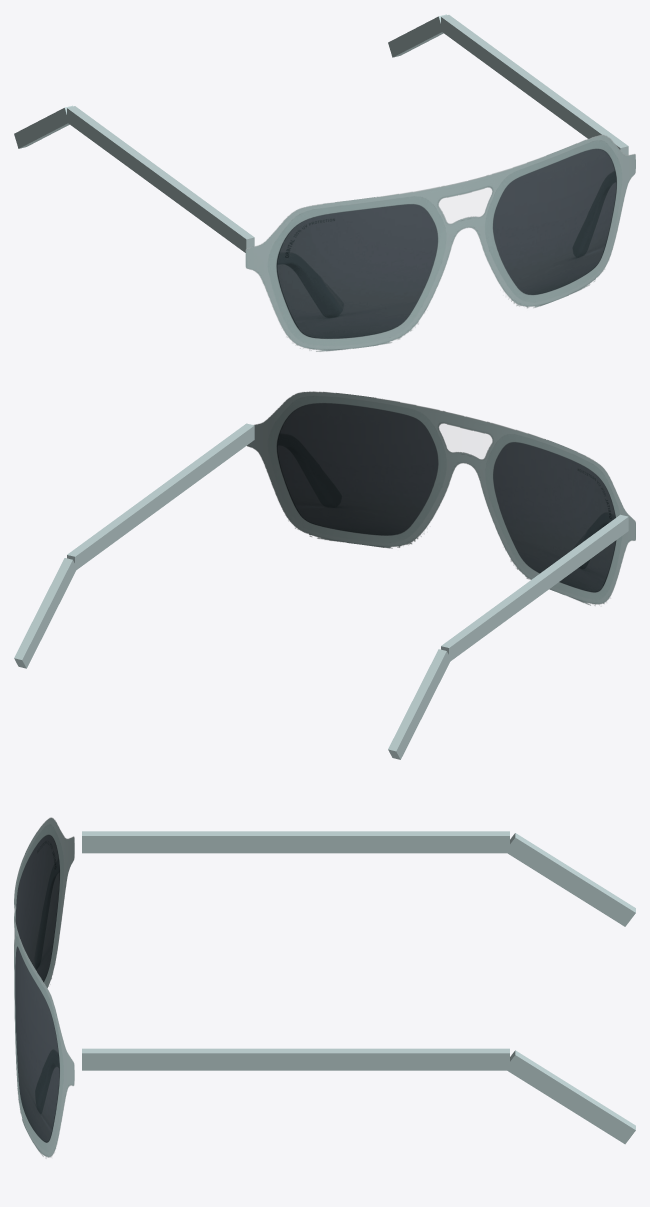
3 views of the same model, one above another, from view 1: azimuth 30°, elevation 25°; view 2: azimuth 150°, elevation 25°; view 3: azimuth 270°, elevation 25° (orthographic). The views are drawn at different scales.
Parts seen in each view (by area): view 1: anteojo; view 2: anteojo; view 3: anteojo.
Part boxes in pixels (box(x1,y1,x2,y2)): anteojo: box(14, 14, 635, 351); anteojo: box(14, 391, 635, 759); anteojo: box(14, 817, 635, 1158).
Size of the model in its own units: 0.142 by 0.0518 by 0.1644.
2 materials, 1 textured.
